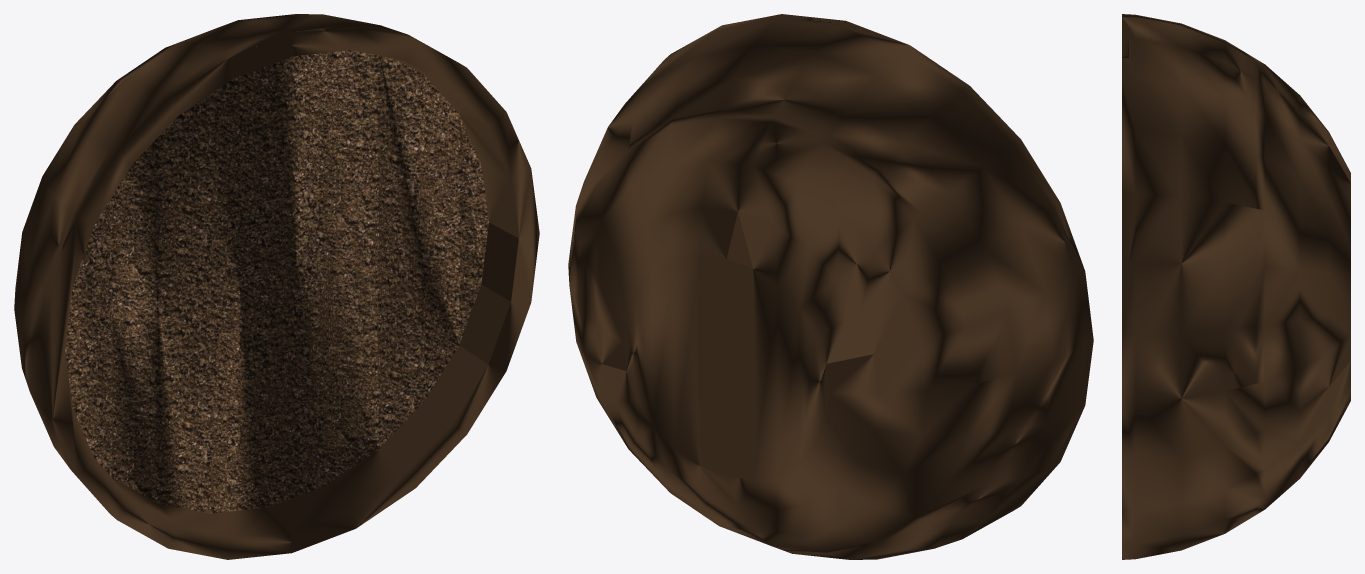
The model's file is model_align.obj.
The picture shows the model from 3 angles, left to right: view 1: azimuth 30°, elevation 25°; view 2: azimuth 150°, elevation 25°; view 3: azimuth 270°, elevation 25°; orthographic projection. The views are drawn at different scales.
Bounding box in the file's own units: 0.1656 × 0.1656 × 0.0692.
Materials: 1 (1 with a texture image).
